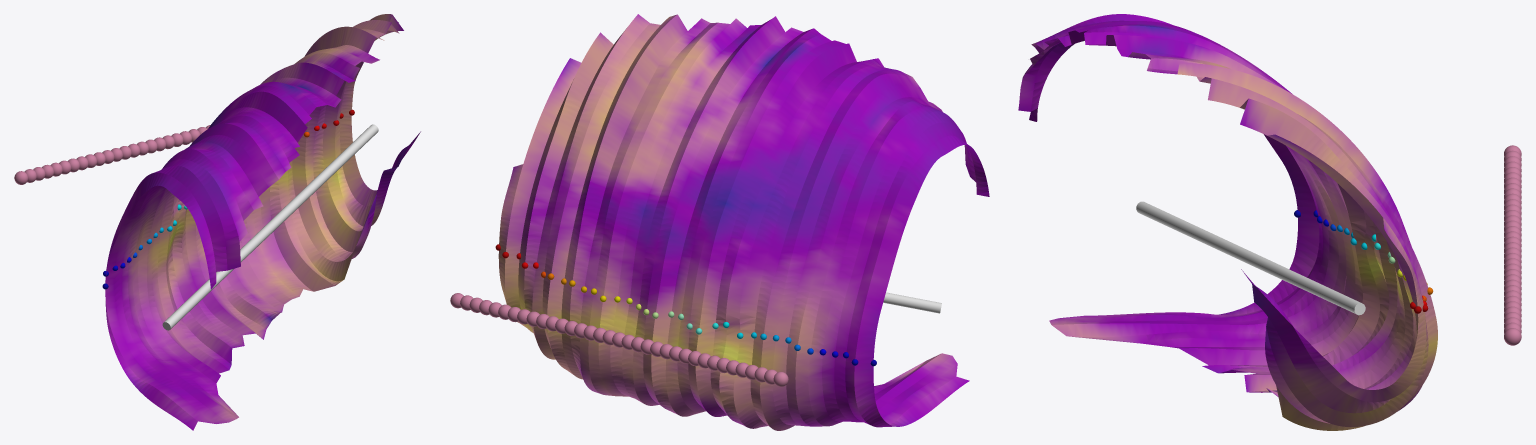
The model's file is Plasma_data_vole_65_7E_id2_L23.gltf.
3 views of the same model, side by side, from view 1: azimuth 30°, elevation 25°; view 2: azimuth 150°, elevation 25°; view 3: azimuth 270°, elevation 25° (orthographic). The views are drawn at different scales.
Size of the model in its own units: 3.54 by 3.45 by 3.96.
